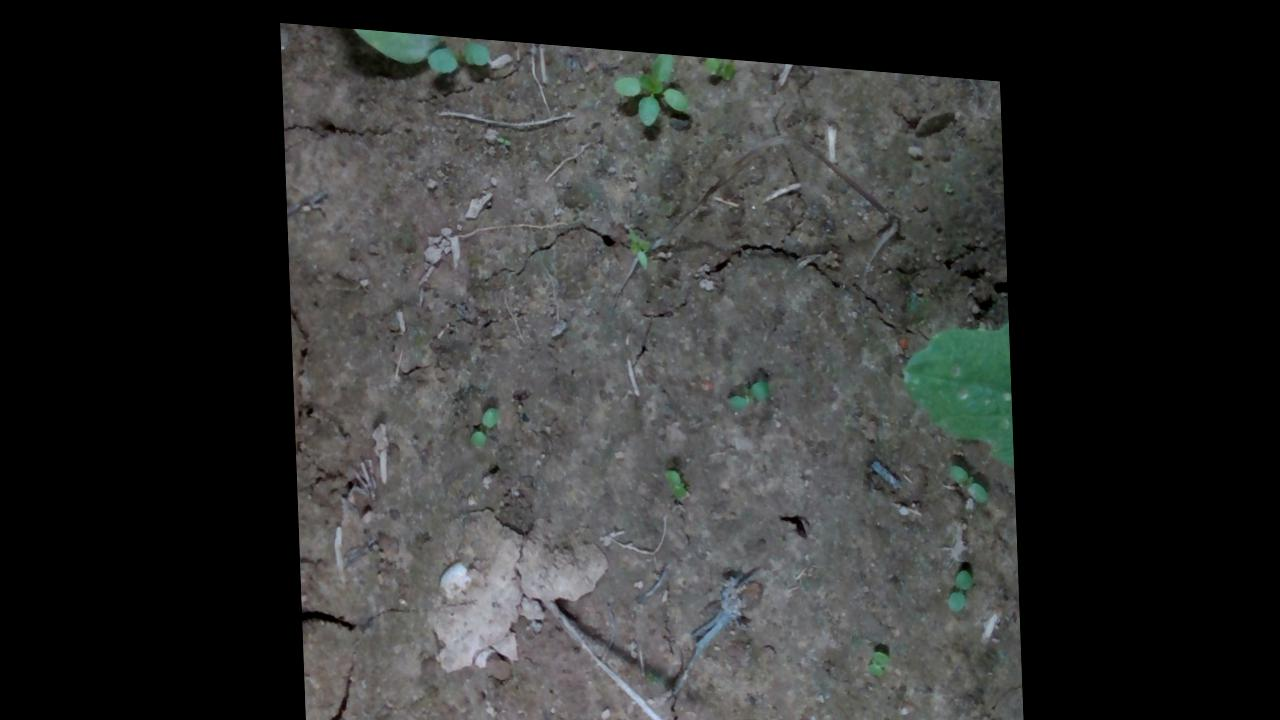weed: (940, 547, 972, 603)
